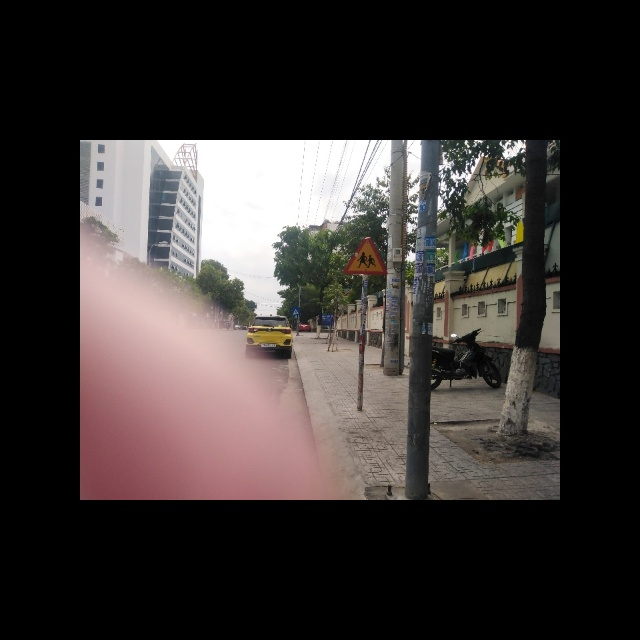Trẻ em ngang qua: (342, 239, 386, 276)
Đường dành cho người đi bộ: (291, 307, 300, 316)
